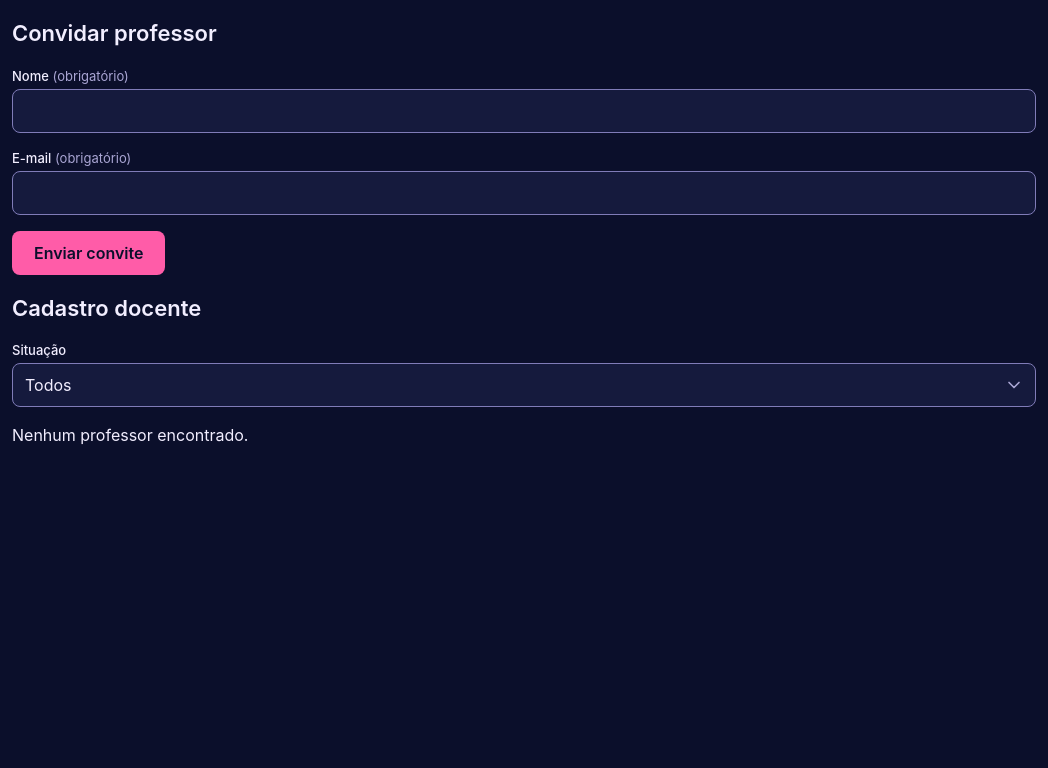
Test case: TeachersAdmin (US5, FR-075) › ALREADY_TEACHER aparece ligado ao e-mail, com foco no resumo
Step 1. Type "X" into the field labelled "Nome (obrigatório)" → (524, 110), box [12,88,1036,132]
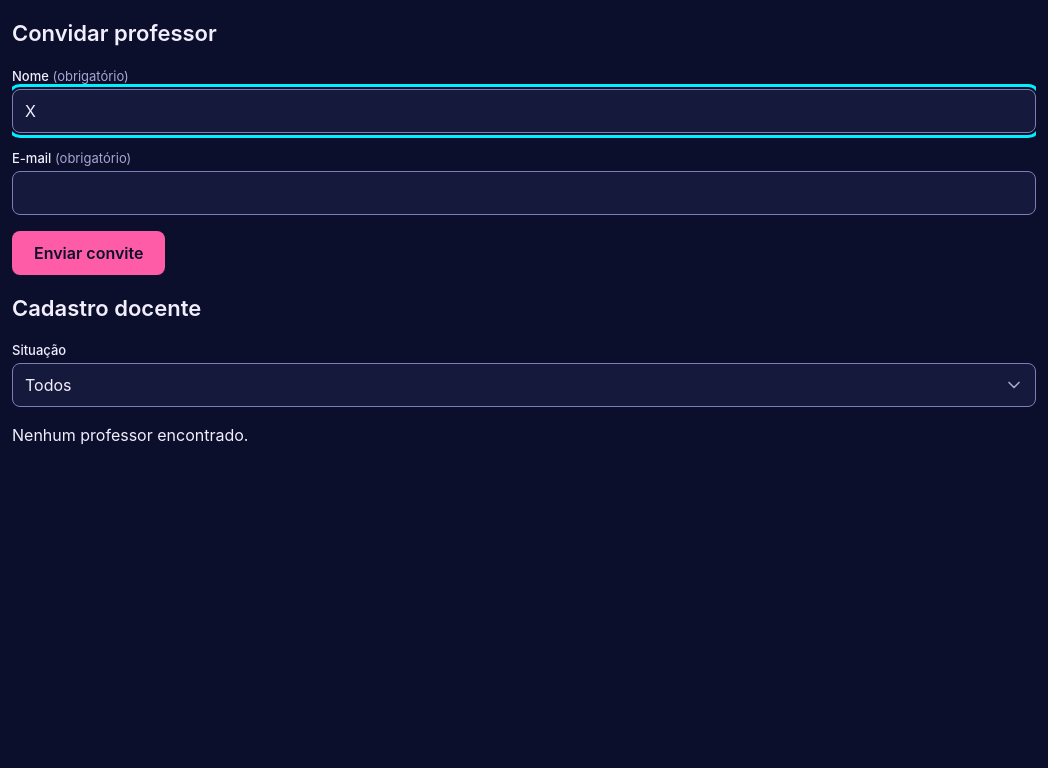
Step 2. Type "x@example.test" into the field labelled "E-mail (obrigatório)" → (524, 192), box [12,170,1036,214]
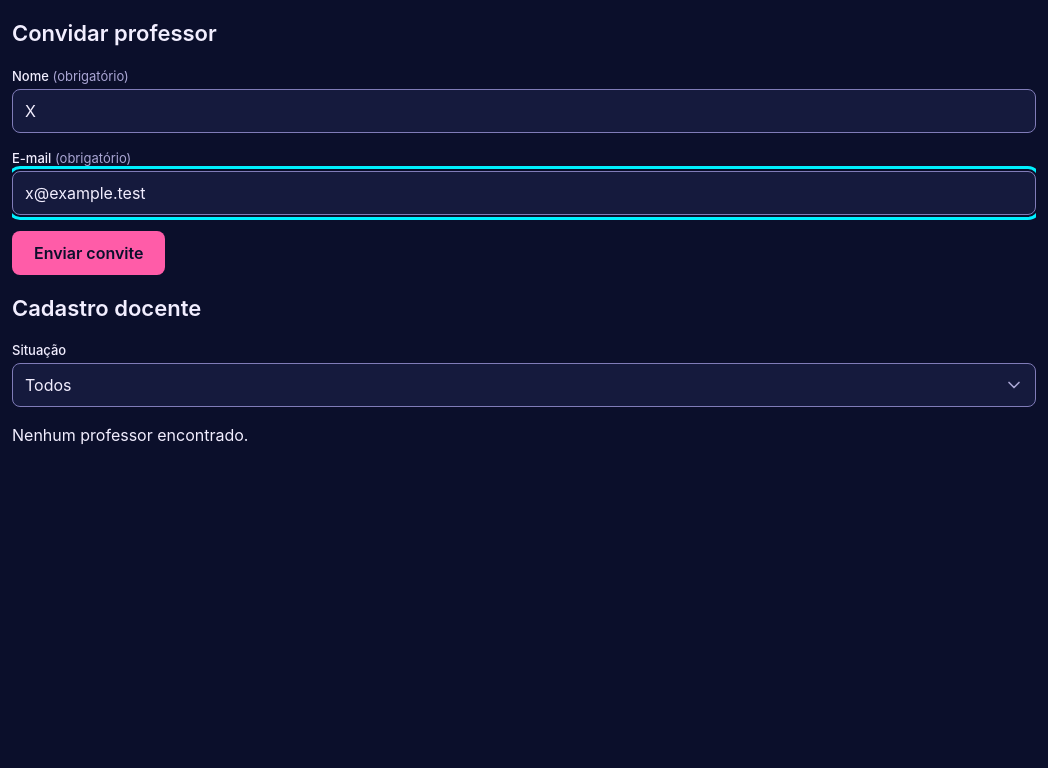
Step 3. Click the button "Enviar convite" → click(89, 252), box [12,230,166,274]
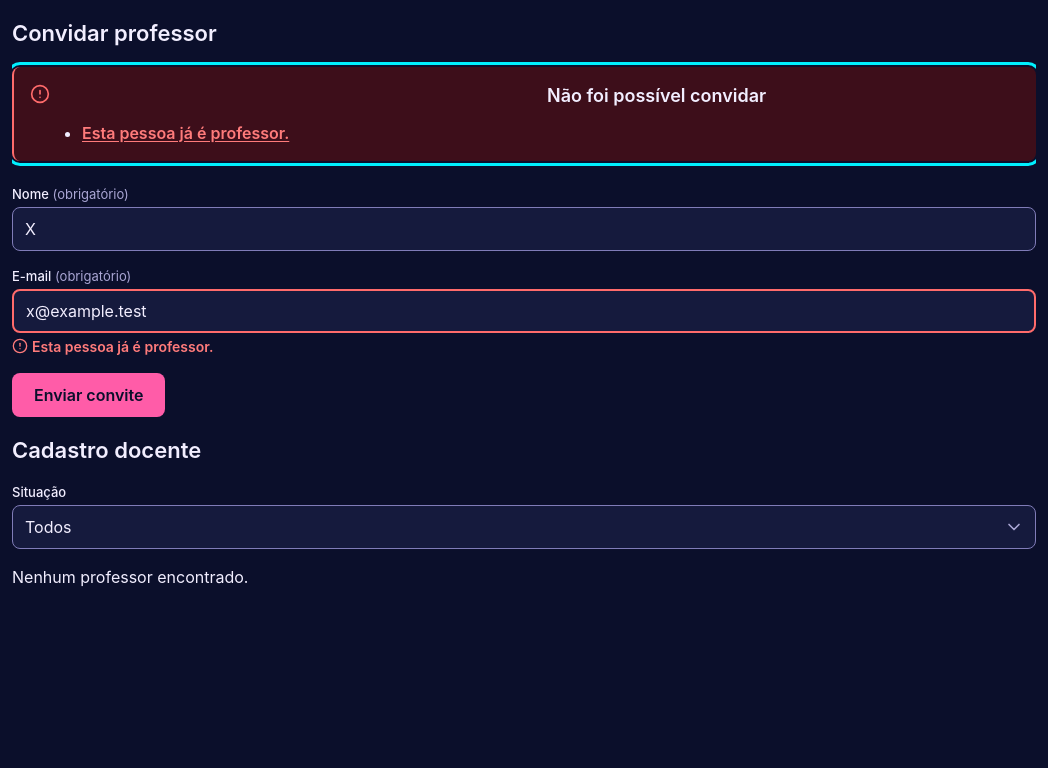
Expected: the element "Não foi possível convidar" shows "Esta pessoa já é professor.", [82,122,289,142]
